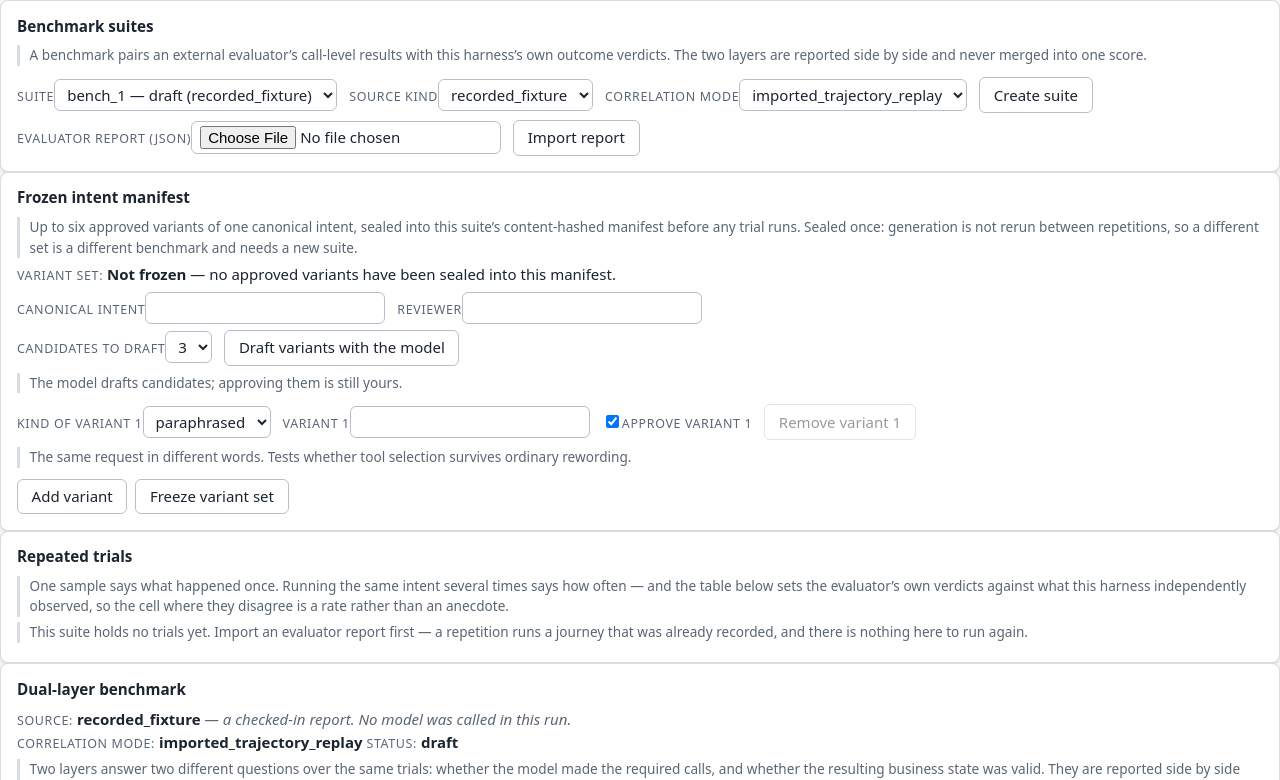
Test: BenchmarkSection — drafting variants with the model › asks for the canonical intent before it asks the model
// Act — the intent is still blank.
Click the button "Draft variants with the model".
click(342, 348)  # box top-left (224, 330), bottom-right (460, 366)
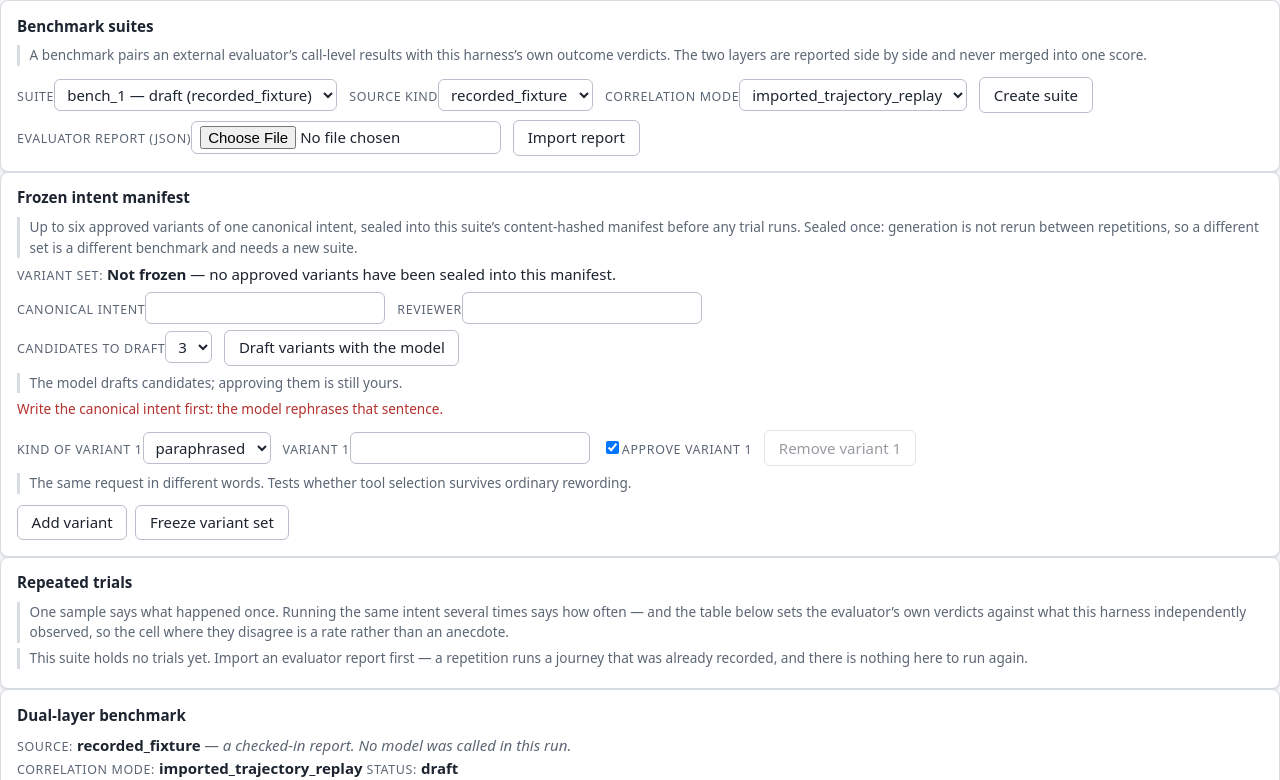
Expected: the text "Write the canonical intent first: the model rephrases that sentence." is shown, top-left (17, 399), bottom-right (443, 418)
